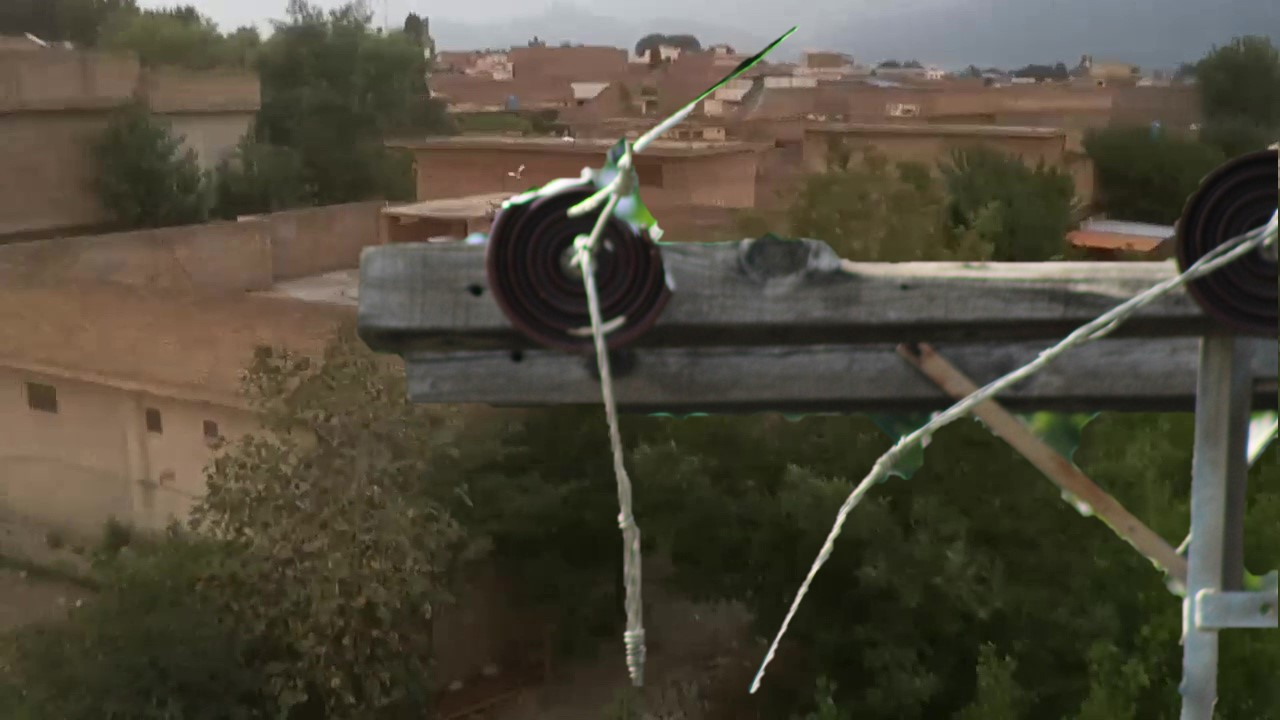defect_disc: (484, 164, 682, 353)
